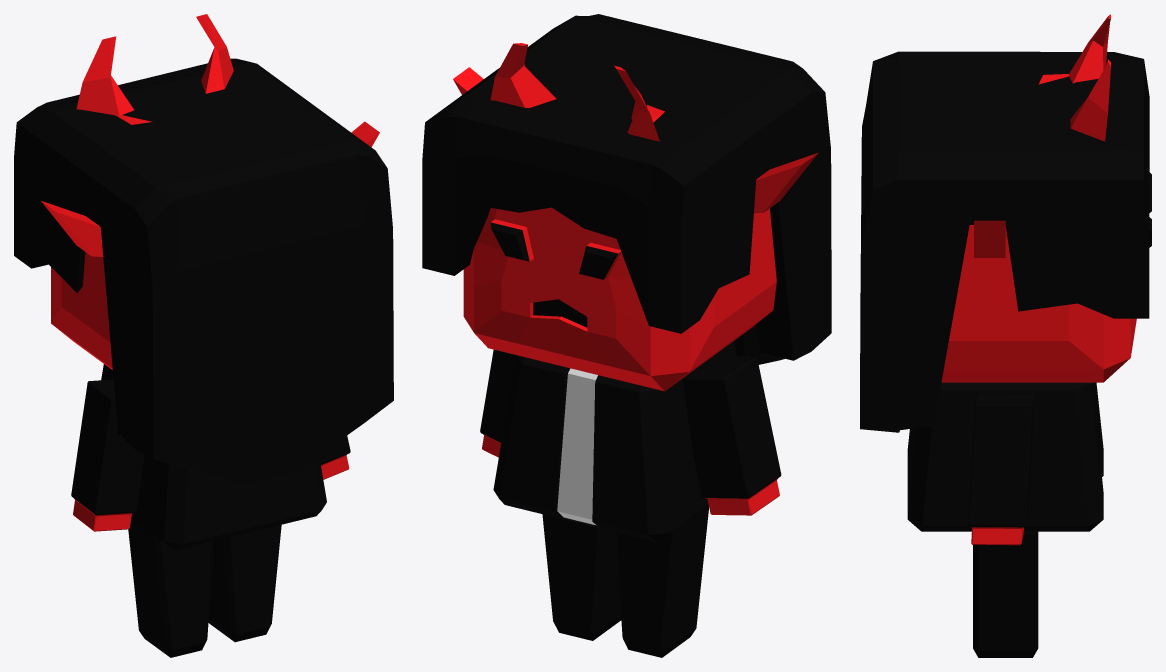
File: DevilModel_4.fbx
The picture shows the model from 3 angles, left to right: view 1: azimuth 30°, elevation 25°; view 2: azimuth 150°, elevation 25°; view 3: azimuth 270°, elevation 25°; orthographic projection. The views are drawn at different scales.
Parts seen in each view (by area): view 1: Hair, LegLeft, Torso, Head, Arm; view 2: Hair, Head, Torso, LegLeft, Arm; view 3: Hair, Head, Torso, Arm, LegLeft.
Part boxes in pixels (x1,y1,x2,y2): Hair: [14, 58, 393, 484]; LegLeft: [128, 518, 281, 657]; Torso: [101, 364, 326, 550]; Head: [41, 14, 379, 369]; Arm: [71, 379, 350, 531]; Hair: [422, 14, 831, 364]; Head: [453, 43, 818, 391]; Torso: [493, 341, 736, 541]; LegLeft: [542, 504, 708, 657]; Arm: [480, 349, 781, 515]; Hair: [860, 51, 1149, 432]; Head: [941, 14, 1151, 382]; Torso: [907, 382, 1103, 531]; Arm: [968, 392, 1034, 545]; LegLeft: [973, 531, 1038, 657].
Bounding box in the file's own units: 189 × 320 × 142.
